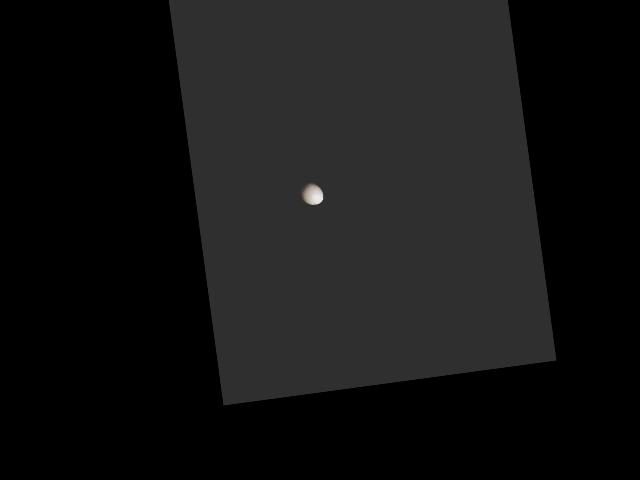egg: (298, 180, 324, 206)
